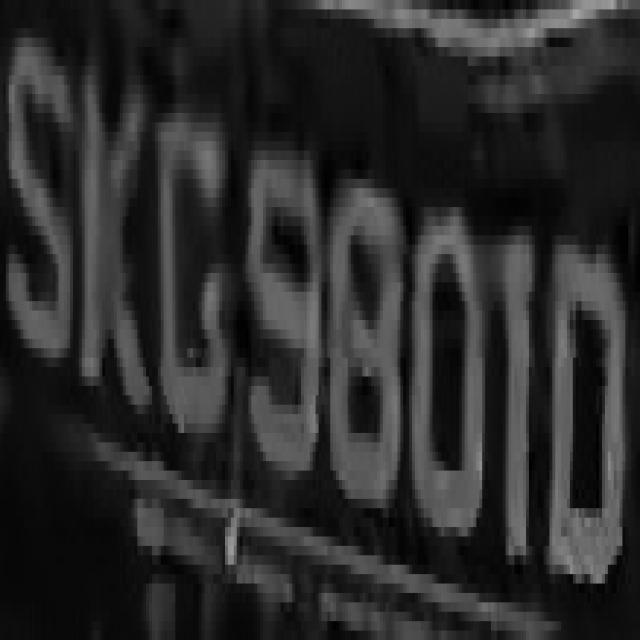0: (406, 169, 479, 546)
1: (497, 141, 538, 584)
8: (327, 132, 409, 527)
9: (240, 94, 327, 527)
D: (550, 207, 628, 602)
G: (149, 66, 228, 433)
K: (70, 28, 146, 433)
S: (6, 38, 79, 395)
